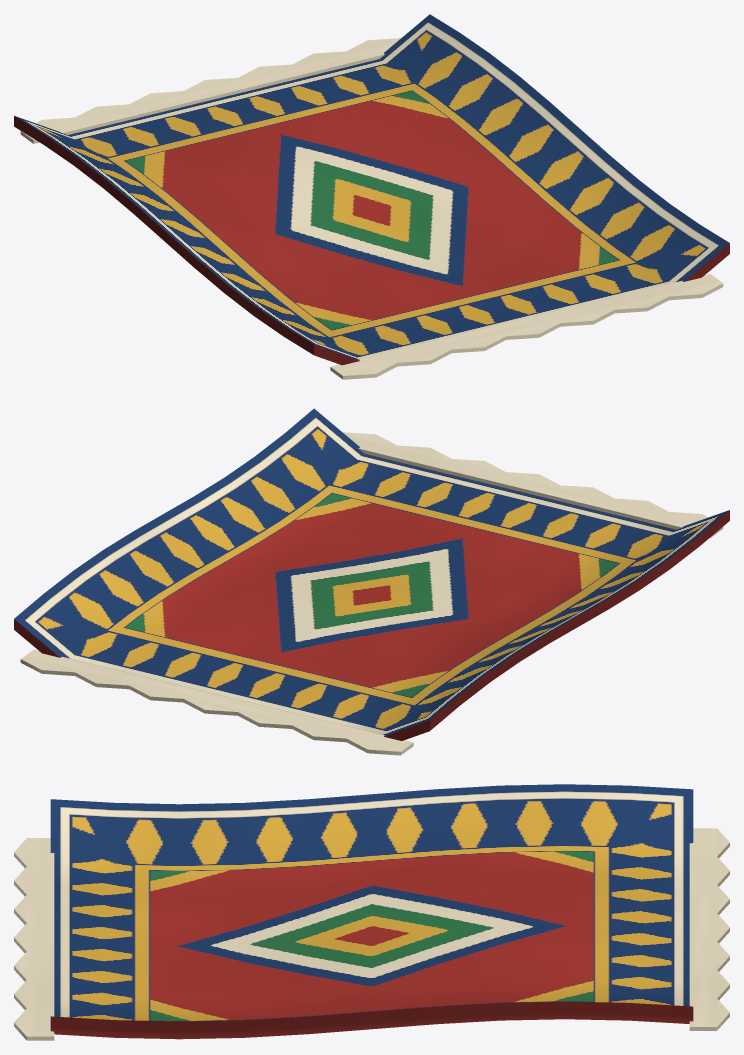
The model's file is prop_flying_carpet.glb.
3 renders of one model, top to bottom at view 1: azimuth 30°, elevation 25°; view 2: azimuth 150°, elevation 25°; view 3: azimuth 270°, elevation 25°, orthographic. The views are drawn at different scales.
Visible parts, largest first — view 1: prop_flying_carpet; view 2: prop_flying_carpet; view 3: prop_flying_carpet.
Part boxes in pixels (x1,y1,x2,y2): prop_flying_carpet: (14, 14, 729, 379); prop_flying_carpet: (14, 408, 729, 755); prop_flying_carpet: (14, 784, 729, 1040).
Size of the model in its own units: 1.4 by 0.195 by 1.95.
Materials: 1 (1 with a texture image).
